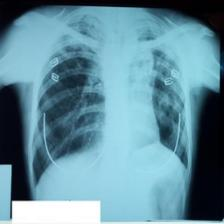tuberculosis: (26, 9, 192, 188)
